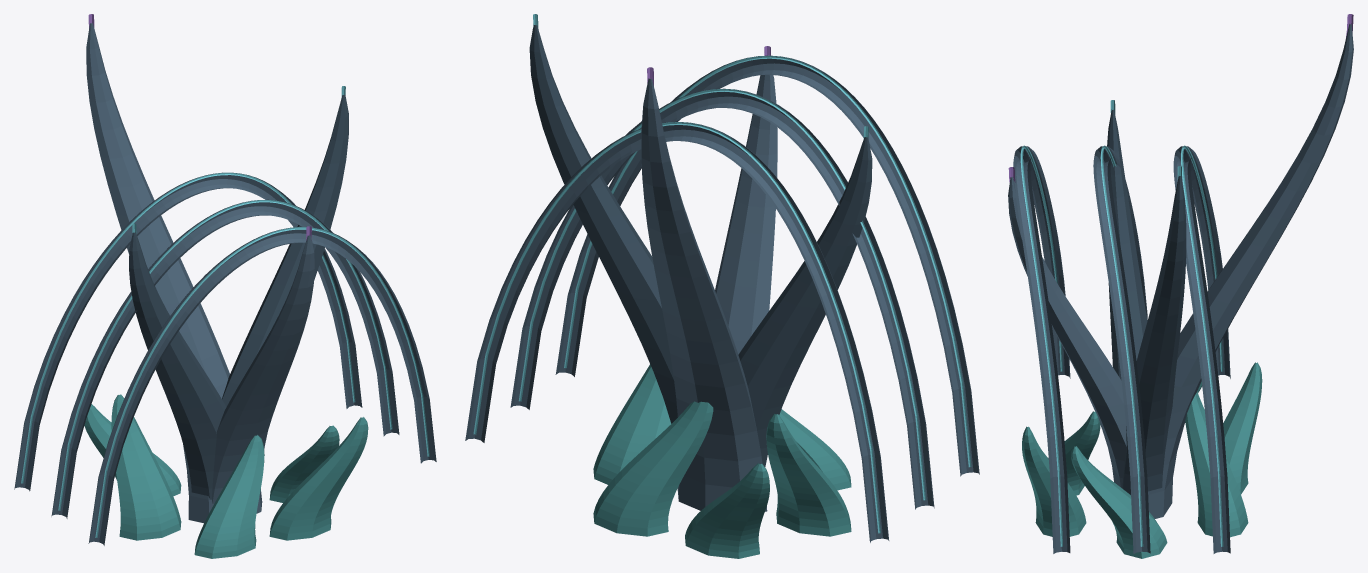
The model's file is hexcore_elven_sanctuary_02.glb.
3 views of the same model, side by side, from view 1: azimuth 30°, elevation 25°; view 2: azimuth 150°, elevation 25°; view 3: azimuth 270°, elevation 25° (orthographic). The views are drawn at different scales.
Visible parts, largest first — view 1: world; view 2: world; view 3: world.
Part boxes in pixels (left/top/right/bottom): world: left=14, top=14, right=436, bottom=558; world: left=465, top=14, right=979, bottom=558; world: left=1008, top=14, right=1353, bottom=558.
Size of the model in its own units: 32.21 by 38.71 by 25.9.
